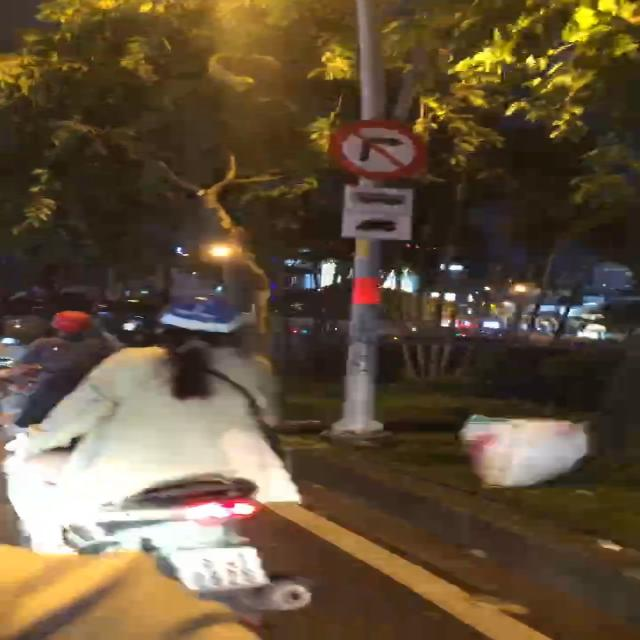Bien bao cam re phai: (333, 112, 427, 181)
